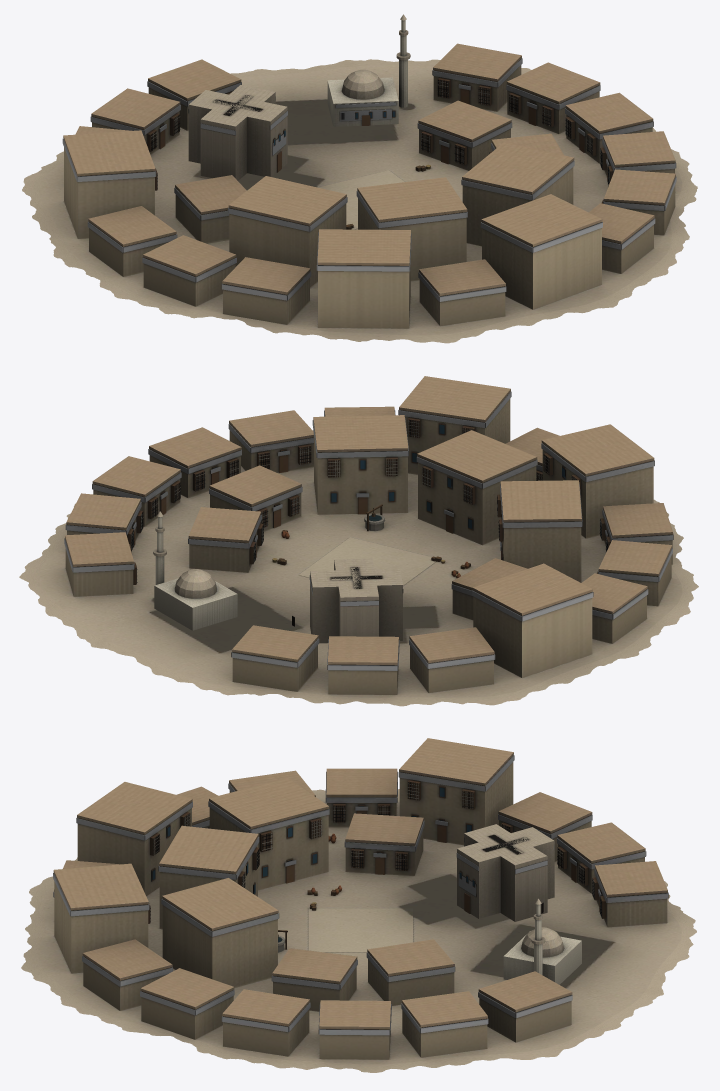
The model's file is kingdoms-town-big-b-nile.glb.
3 views of the same model, one above another, from view 1: azimuth 30°, elevation 25°; view 2: azimuth 150°, elevation 25°; view 3: azimuth 270°, elevation 25° (orthographic).
Visible parts, largest first — view 1: LOD0; view 2: LOD0; view 3: LOD0.
Boxes of the visible parts, x1,y1,x2,y2 form: LOD0: (22, 14, 697, 343); LOD0: (19, 376, 698, 706); LOD0: (21, 738, 696, 1072).
Size of what is drawn, in the model's own units: 7.9 by 1.2 by 7.96.
Materials: 3 (3 with a texture image).
